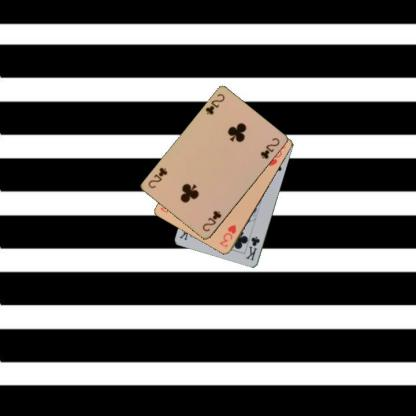2c: (203, 91, 226, 116), (200, 208, 222, 233)
3h: (216, 222, 237, 249)
Kc: (243, 234, 261, 262)
